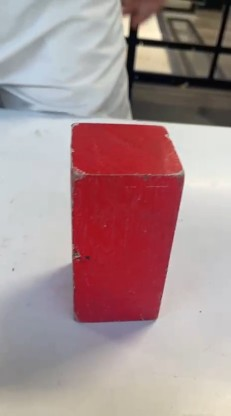red: (80, 113, 173, 330)
